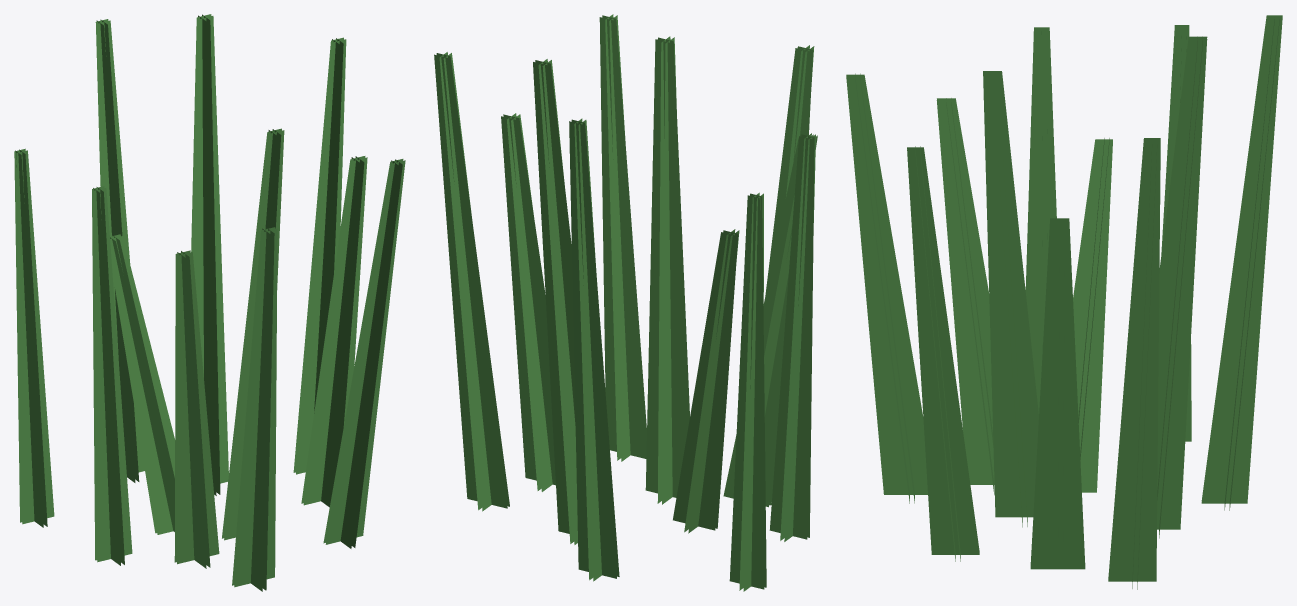
Rendered from grass_tuft_meadow.glb.
The picture shows the model from 3 angles, left to right: view 1: azimuth 30°, elevation 25°; view 2: azimuth 150°, elevation 25°; view 3: azimuth 270°, elevation 25°; orthographic projection. The views are drawn at different scales.
Parts seen in each view (by area): view 1: grass_tuft_meadow; view 2: grass_tuft_meadow; view 3: grass_tuft_meadow.
Boxes of the visible parts, box(x1,y1,x2,y2) form: grass_tuft_meadow: box(14, 14, 405, 591); grass_tuft_meadow: box(434, 14, 817, 591); grass_tuft_meadow: box(846, 15, 1282, 589).
Size of the model in its own units: 0.4039 by 0.5494 by 0.4346.
